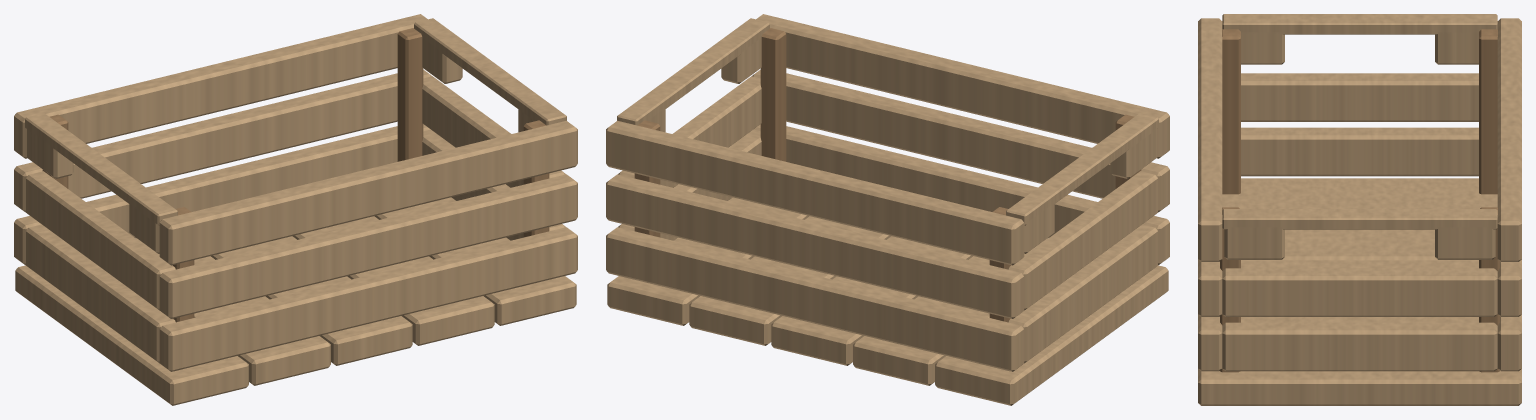
Rendered from fish_crate.fbx.
3 renders of one model, left to right at view 1: azimuth 30°, elevation 25°; view 2: azimuth 150°, elevation 25°; view 3: azimuth 270°, elevation 25°, orthographic. The views are drawn at different scales.
Visible parts, largest first — view 1: fish_crate.002; view 2: fish_crate.002; view 3: fish_crate.002.
Part boxes in pixels (x1,y1,x2,y2): fish_crate.002: [14, 14, 577, 405]; fish_crate.002: [606, 14, 1169, 405]; fish_crate.002: [1198, 14, 1521, 405].
Bounding box in the file's own units: 0.6 × 0.258 × 0.4.
1 material, 1 textured.
